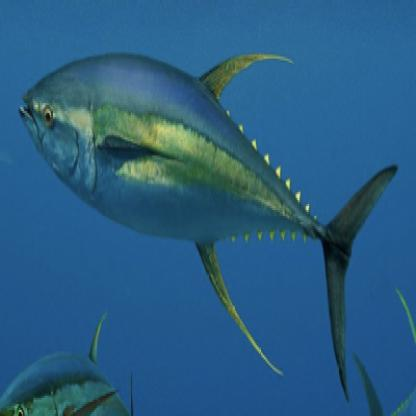tuna: (16, 27, 400, 407)
